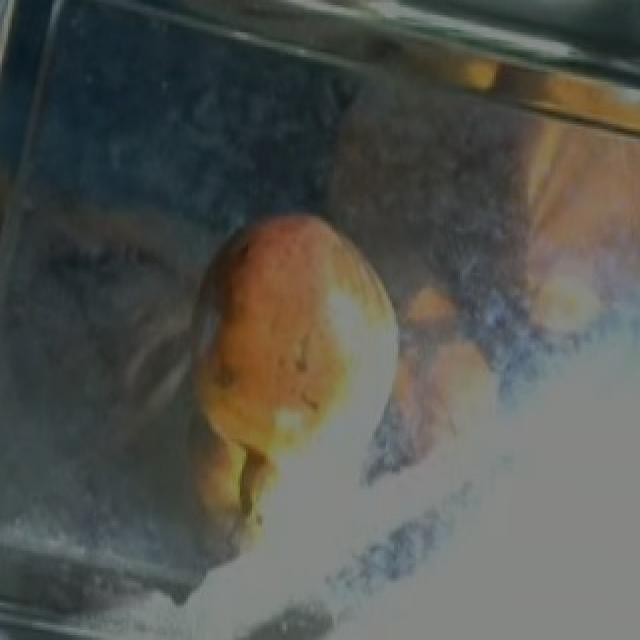fruit: (168, 184, 430, 442)
